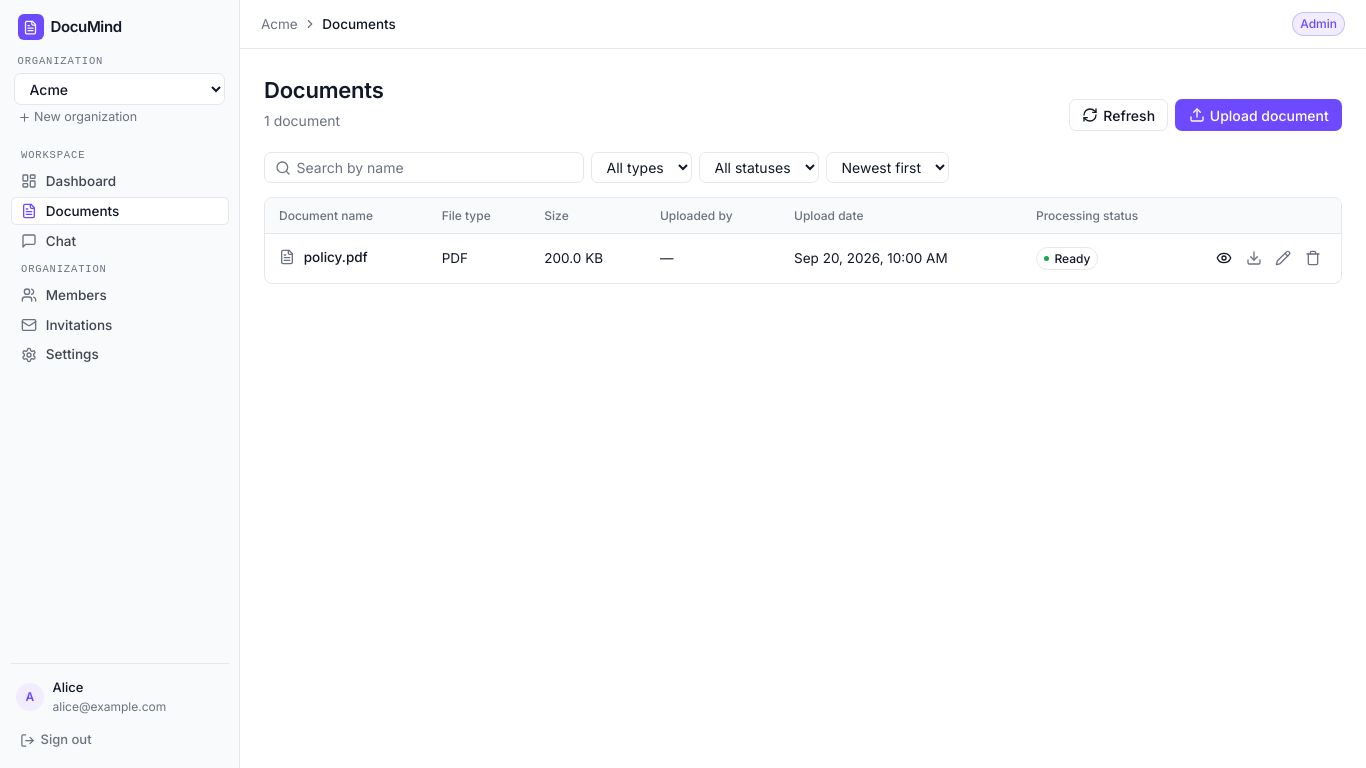
Test: Documents page › renames a document
Click the button named "Rename policy.pdf": {"x": 1283, "y": 258} [1269,244,1297,272]
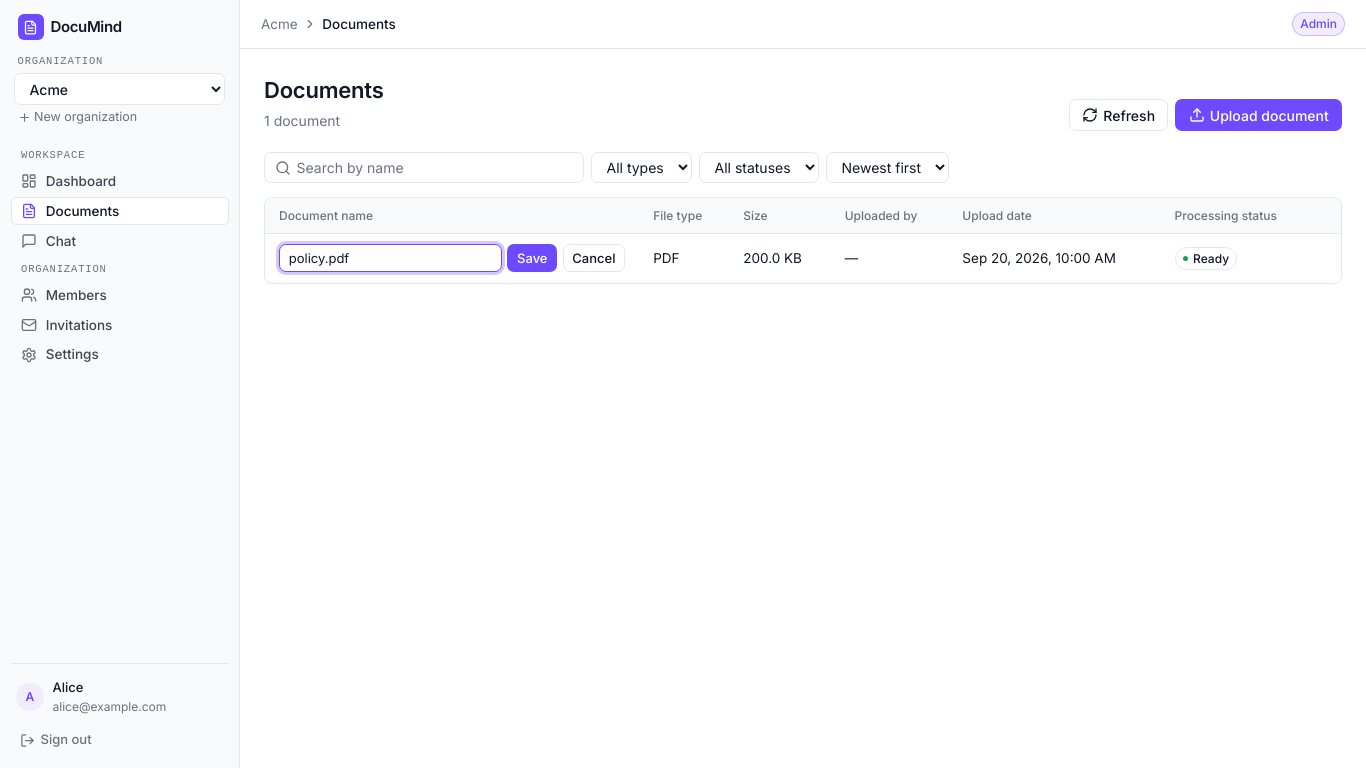
Replace the text in the field named "New name" with "renamed.pdf": {"x": 390, "y": 258} [279,244,502,272]
Then press Enter
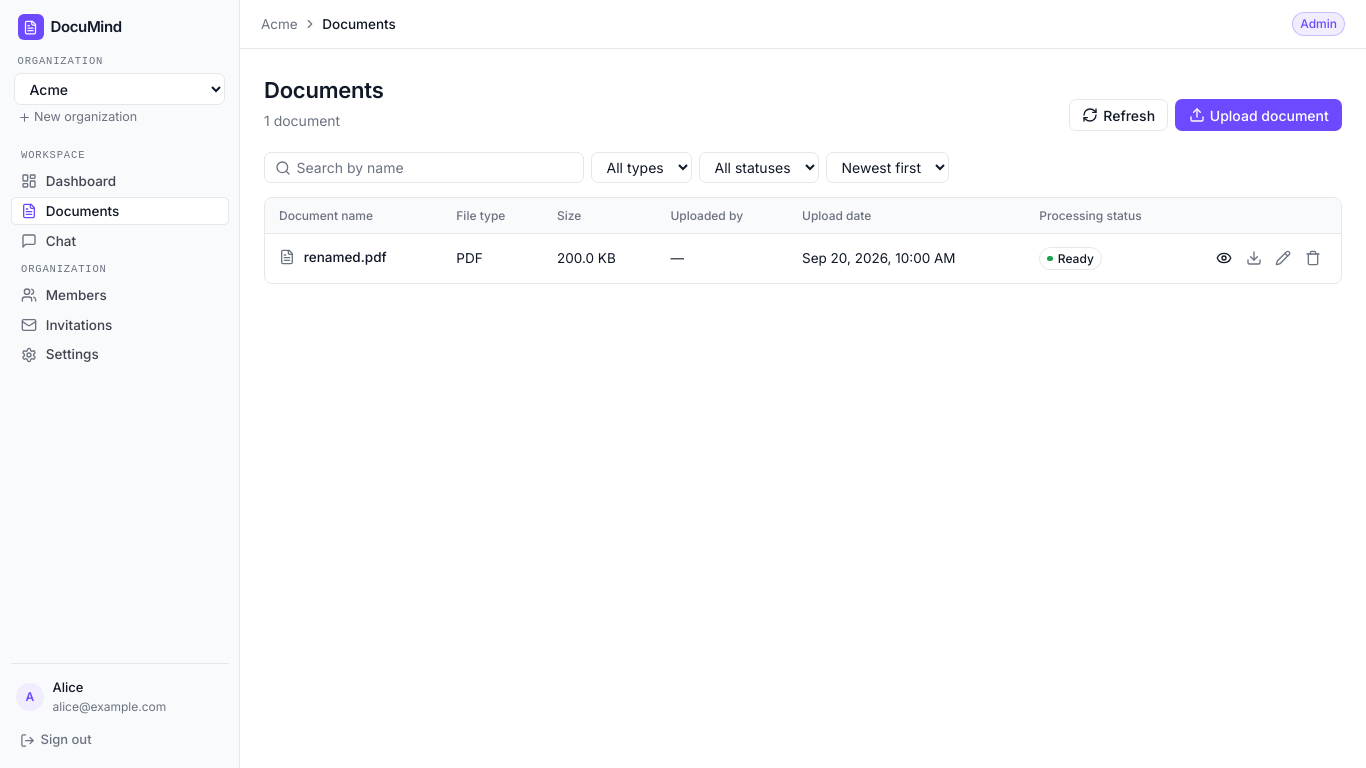
Expected: the text "renamed.pdf" is shown, [304,247,387,267]
